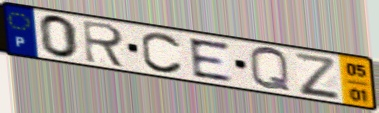0: (37, 14, 82, 60)
C: (140, 30, 186, 76)
E: (186, 36, 236, 83)
Q: (246, 45, 293, 94)
R: (81, 18, 129, 70)
Z: (292, 50, 343, 100)
